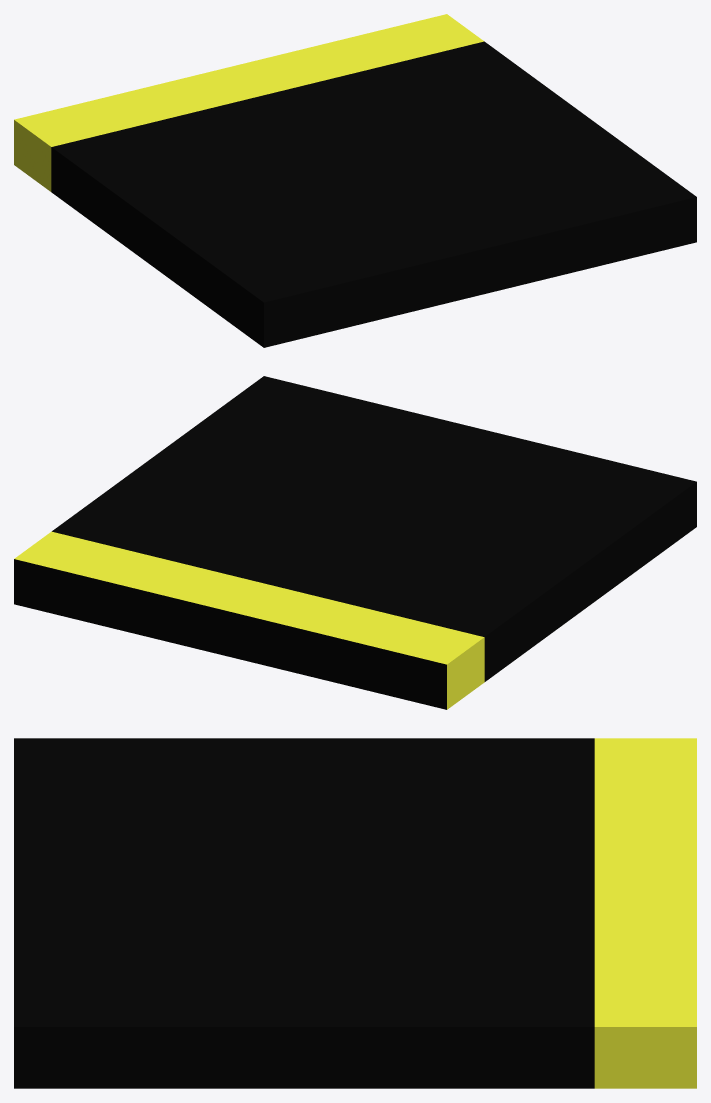
The model's file is Mod_Tile_10_Var_01.fbx.
3 views of the same model, one above another, from view 1: azimuth 30°, elevation 25°; view 2: azimuth 150°, elevation 25°; view 3: azimuth 270°, elevation 25° (orthographic). The views are drawn at different scales.
Parts seen in each view (by area): view 1: Mod_Tile_10_Var_01; view 2: Mod_Tile_10_Var_01; view 3: Mod_Tile_10_Var_01.
Boxes of the visible parts, x1,y1,x2,y2 form: Mod_Tile_10_Var_01: [14, 14, 696, 347]; Mod_Tile_10_Var_01: [14, 376, 696, 709]; Mod_Tile_10_Var_01: [14, 738, 696, 1088].
Bounding box in the file's own units: 100 × 10 × 100.
